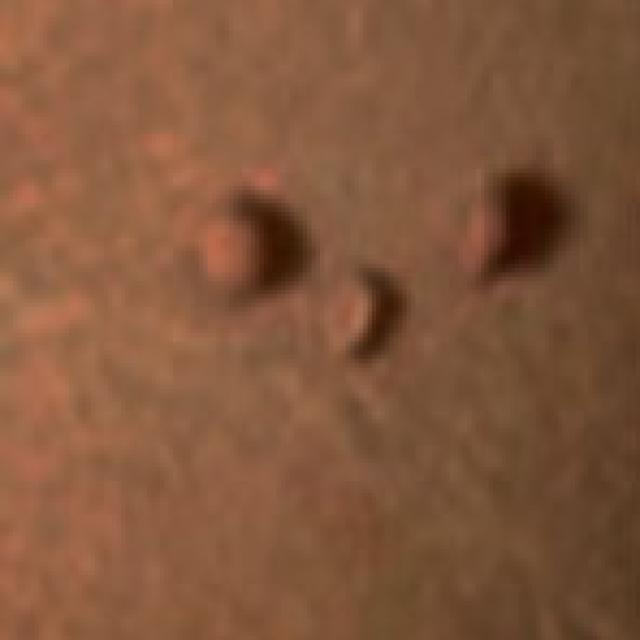wart: (190, 194, 294, 294), (329, 264, 415, 354), (445, 173, 519, 277)
